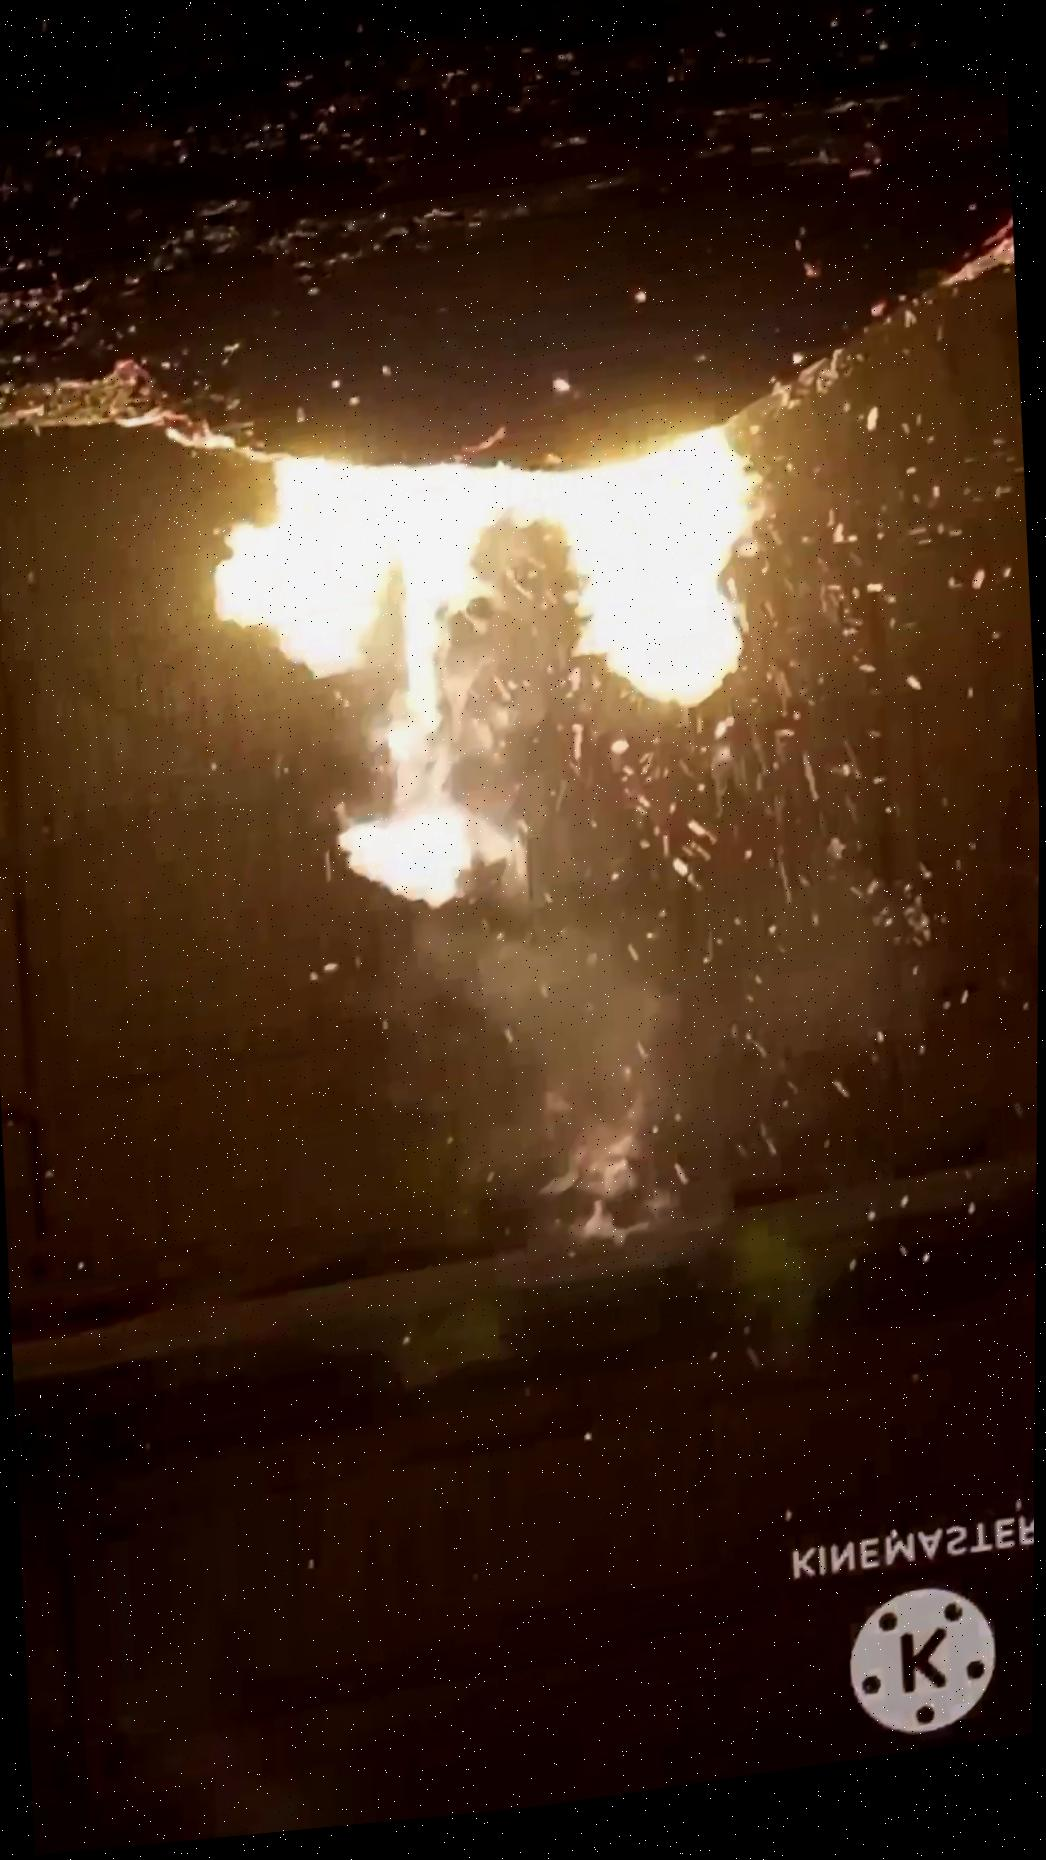fire: (105, 187, 996, 1298)
